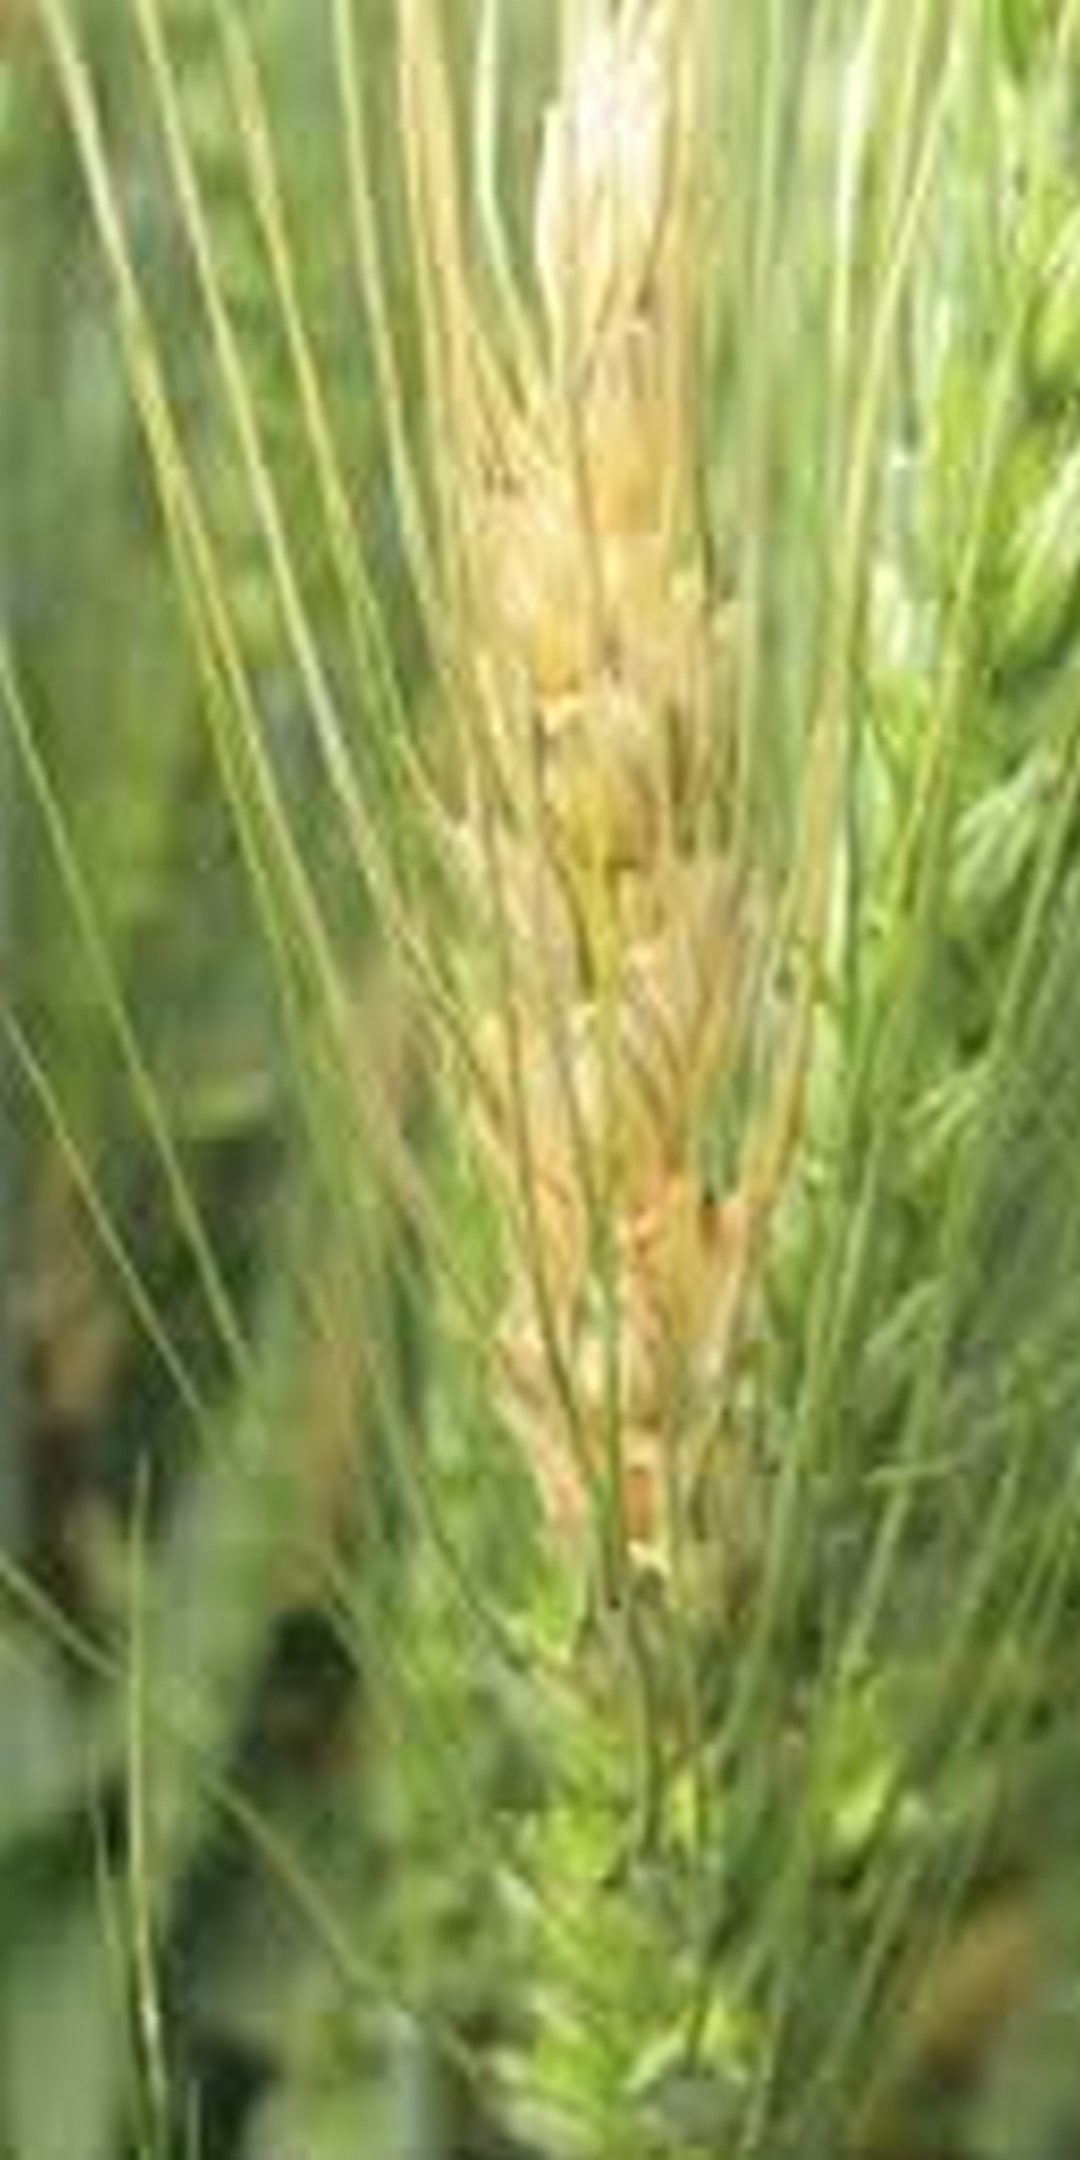Wheat scab: (433, 90, 778, 1676)
